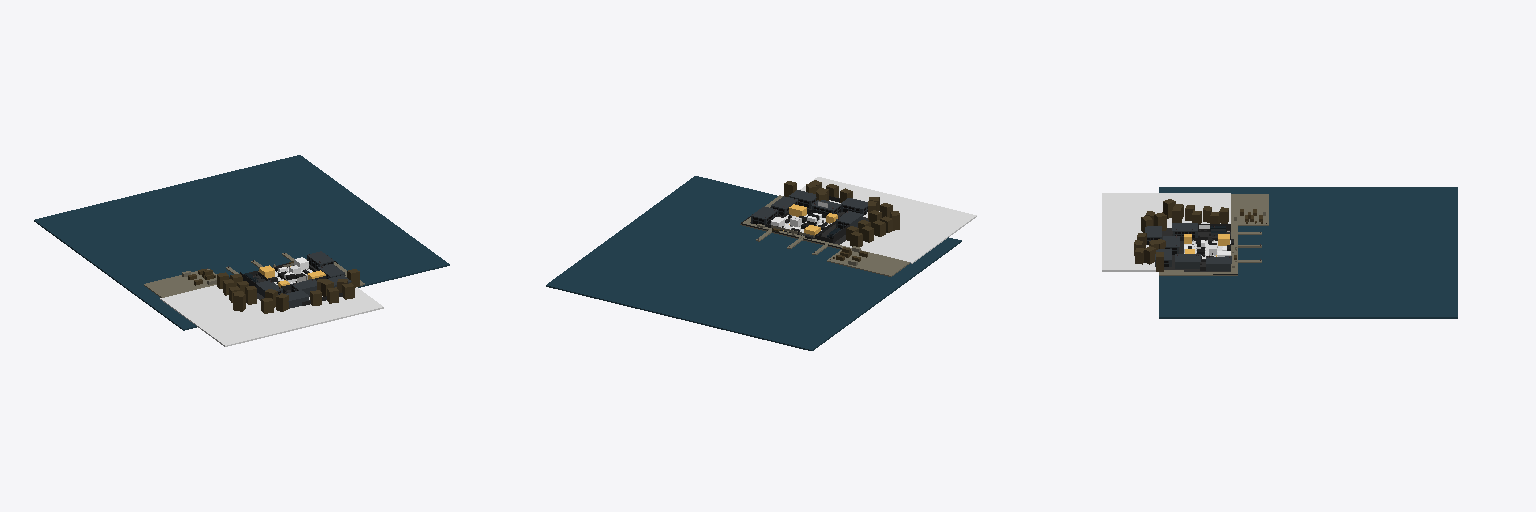
Rendered from Shipyard.obj.
3 views of the same model, side by side, from view 1: azimuth 30°, elevation 25°; view 2: azimuth 150°, elevation 25°; view 3: azimuth 270°, elevation 25° (orthographic).
Size of the model in its own units: 2011 by 285 by 2330.